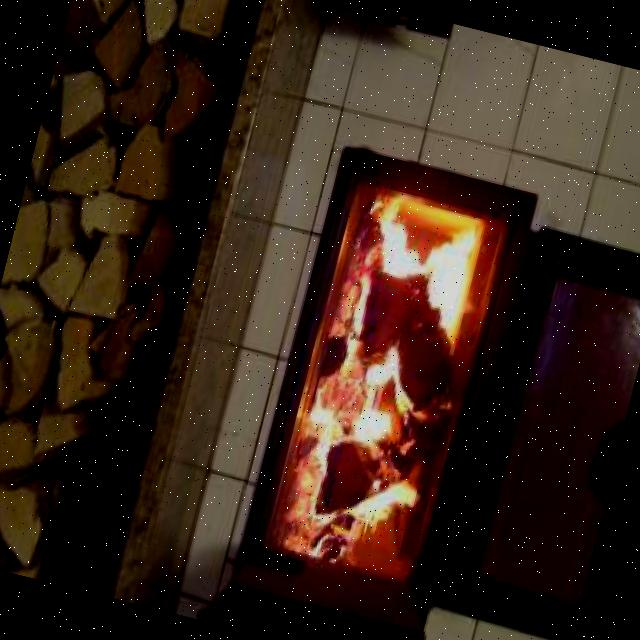fire: (255, 185, 493, 583)
